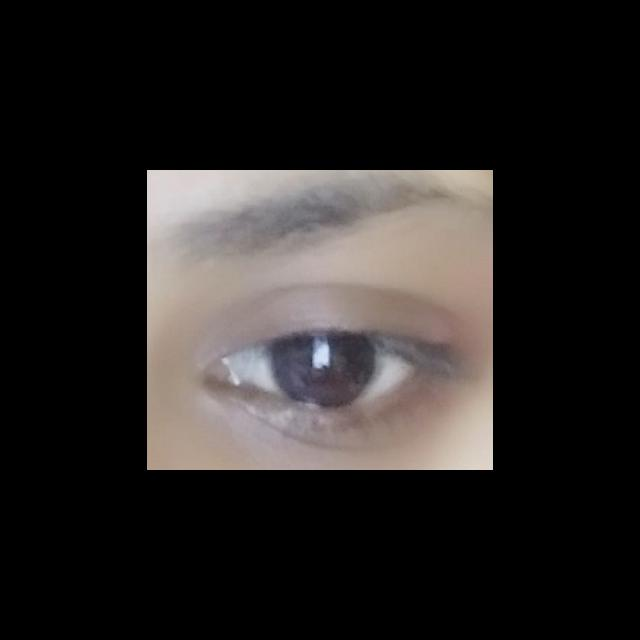eye: (232, 335, 417, 405)
iris: (274, 337, 380, 404)
